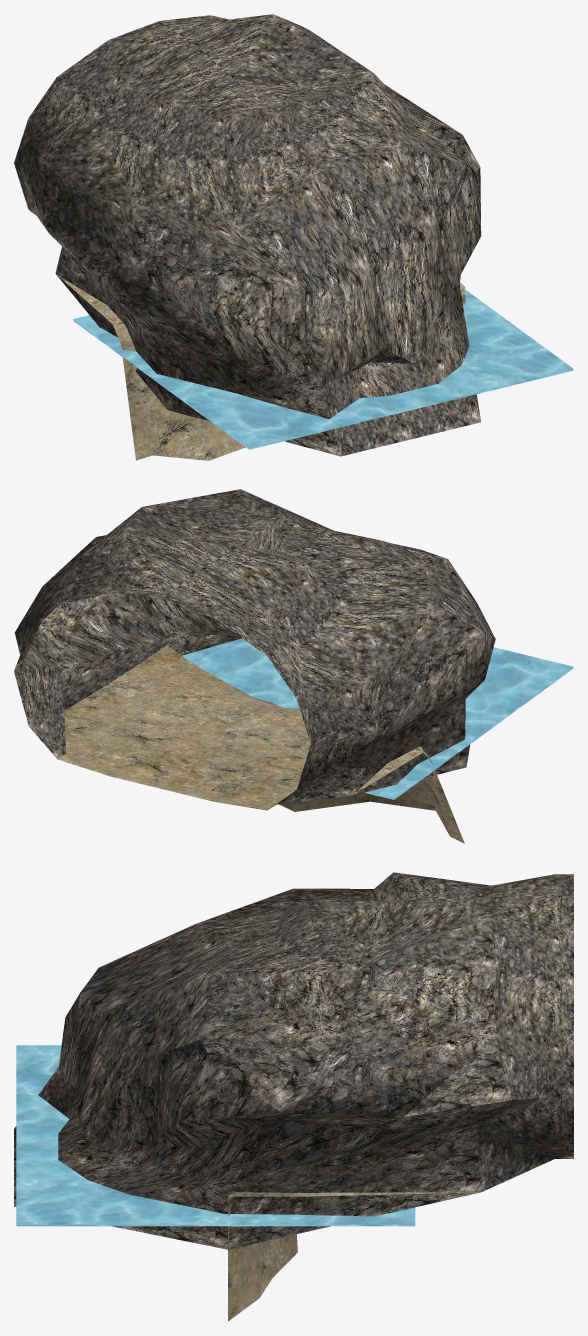
File: pir_m_are_cav_deadend150_water.fbx
The picture shows the model from 3 angles, top to bottom: view 1: azimuth 30°, elevation 25°; view 2: azimuth 150°, elevation 25°; view 3: azimuth 270°, elevation 25°; orthographic projection. The views are drawn at different scales.
Visible parts, largest first — view 1: standardDeadEnd_wall, water_top, standardDeadEnd_floor, water_bottom; view 2: standardDeadEnd_wall, standardDeadEnd_floor, water_top, water_bottom; view 3: standardDeadEnd_wall, water_top, standardDeadEnd_floor, water_bottom.
Boxes of the visible parts, x1,y1,x2,y2 form: standardDeadEnd_wall: (14,14,481,456); water_top: (73,290,573,448); standardDeadEnd_floor: (56,274,465,460); water_bottom: (73,320,573,449); standardDeadEnd_wall: (14,489,495,808); standardDeadEnd_floor: (57,645,464,843); water_top: (182,638,573,798); water_bottom: (365,668,573,799); standardDeadEnd_wall: (14,872,573,1249); water_top: (16,1045,415,1224); standardDeadEnd_floor: (228,1192,475,1321); water_bottom: (16,1224,415,1226).
Bounding box in the file's own units: 12669 × 10458 × 14732.
3 materials, 3 textured.
